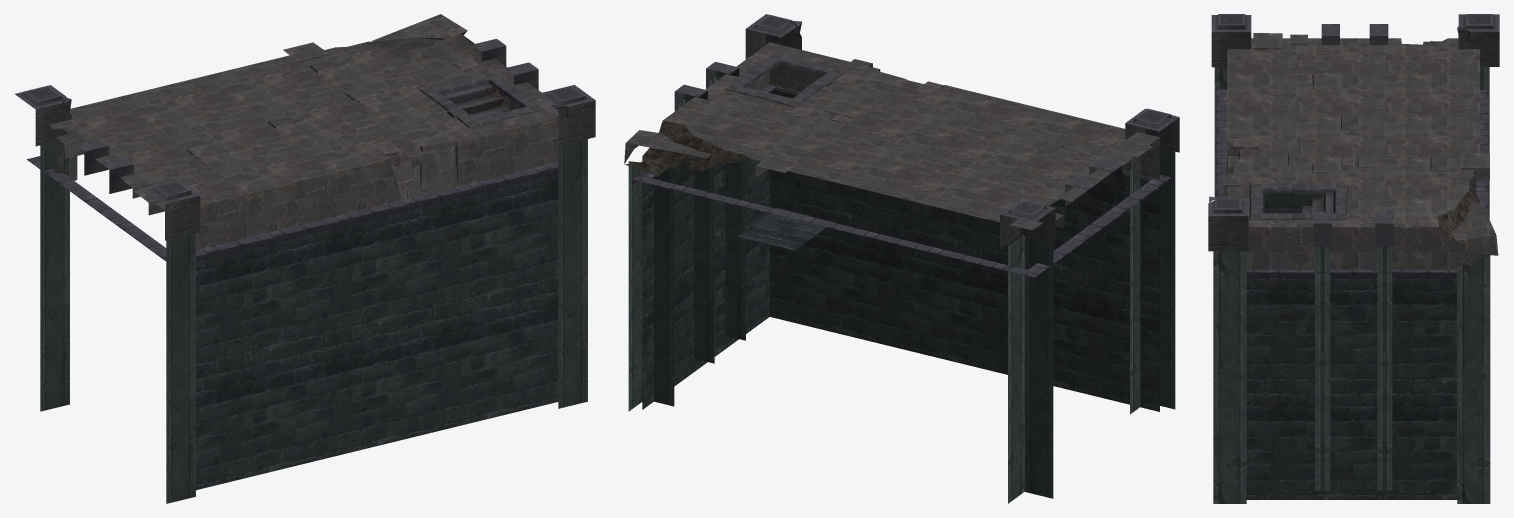
The model's file is building_section02_guanka10C01.FBX.
3 renders of one model, left to right at view 1: azimuth 30°, elevation 25°; view 2: azimuth 150°, elevation 25°; view 3: azimuth 270°, elevation 25°, orthographic. The views are drawn at different scales.
Parts seen in each view (by area): view 1: building_section02_guanka10C01; view 2: building_section02_guanka10C01; view 3: building_section02_guanka10C01.
Boxes of the visible parts, bbox=[...] form: building_section02_guanka10C01: bbox=[15, 14, 595, 503]; building_section02_guanka10C01: bbox=[624, 14, 1179, 503]; building_section02_guanka10C01: bbox=[1208, 14, 1499, 503].
Bounding box in the file's own units: 33.33 × 22.59 × 20.31.
